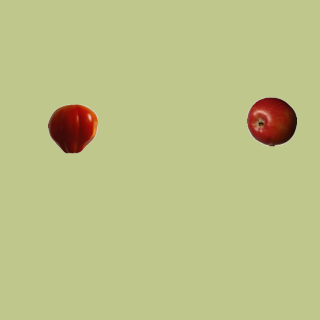Apple Braeburn: (246, 96, 296, 146)
Tomato 1: (47, 103, 97, 153)
